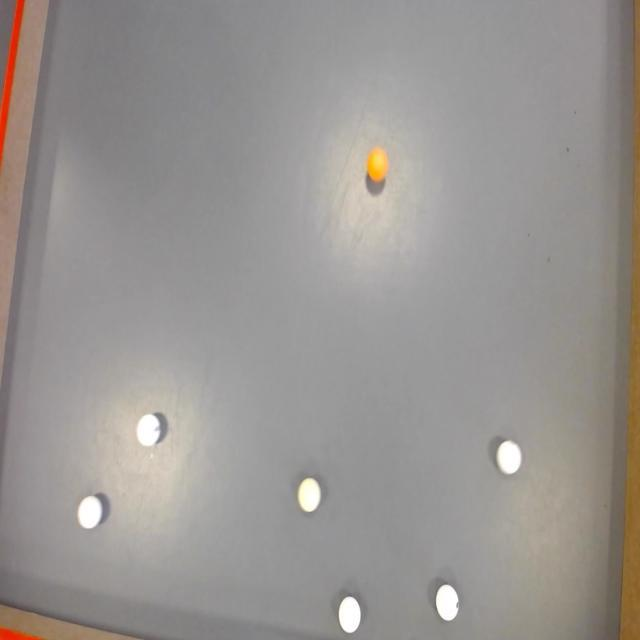orange: (366, 146, 390, 183)
white: (434, 584, 460, 622), (296, 477, 321, 513), (496, 440, 522, 474), (136, 413, 160, 448), (78, 498, 103, 530), (339, 597, 361, 633)
